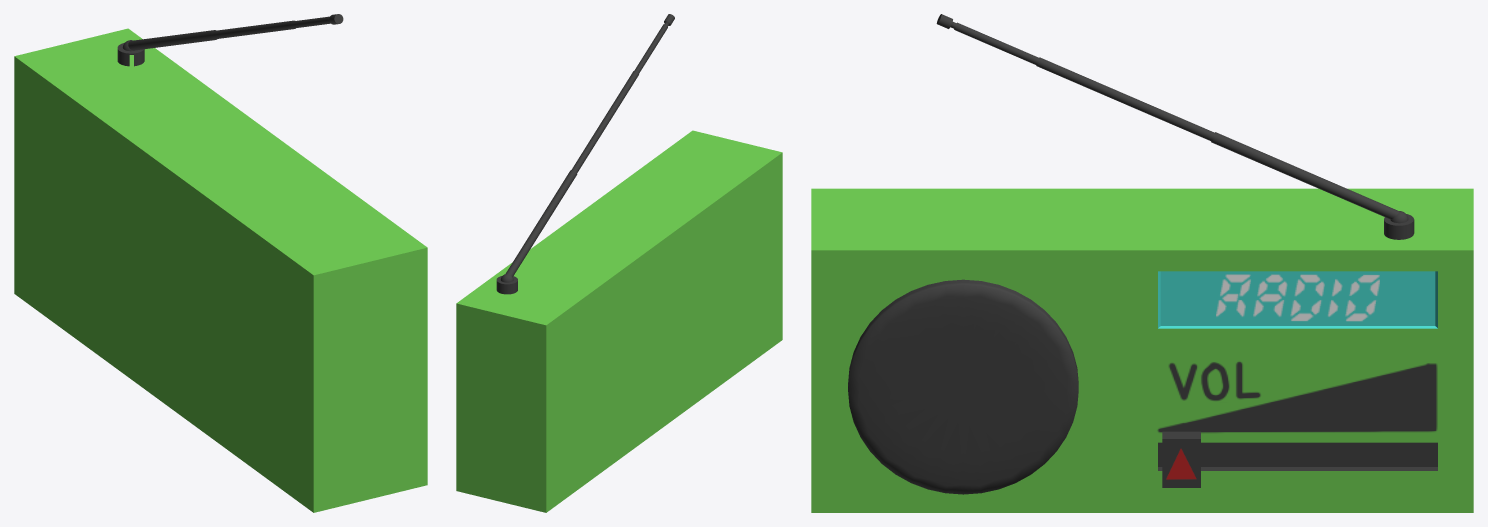
File: Radio.fbx
The picture shows the model from 3 angles, left to right: view 1: azimuth 30°, elevation 25°; view 2: azimuth 150°, elevation 25°; view 3: azimuth 270°, elevation 25°; orthographic projection. The views are drawn at different scales.
Parts seen in each view (by area): view 1: pasted__Volume_Slider; view 2: pasted__Volume_Slider; view 3: pasted__Volume_Slider.
Boxes of the visible parts, x1,y1,x2,y2 form: pasted__Volume_Slider: (14, 14, 427, 512); pasted__Volume_Slider: (456, 14, 782, 512); pasted__Volume_Slider: (811, 14, 1473, 512).
Size of the model in its own units: 4.72 by 15.4 by 19.19.
